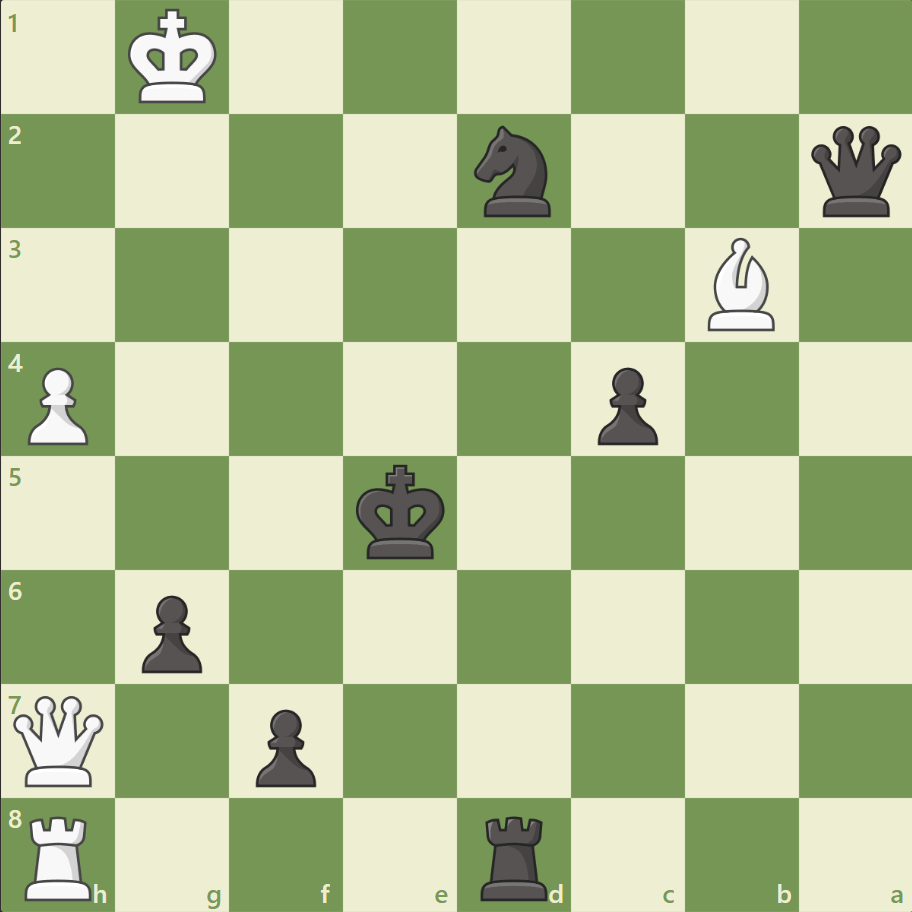B: (698, 233, 782, 336)
K: (124, 4, 224, 112)
P: (20, 359, 95, 450)
Q: (10, 690, 109, 789)
R: (19, 806, 102, 904)
k: (351, 458, 451, 566)
n: (465, 121, 562, 223)
p: (247, 700, 322, 791), (133, 586, 208, 677), (588, 359, 662, 450)
q: (805, 122, 904, 222)
r: (473, 806, 556, 904)
